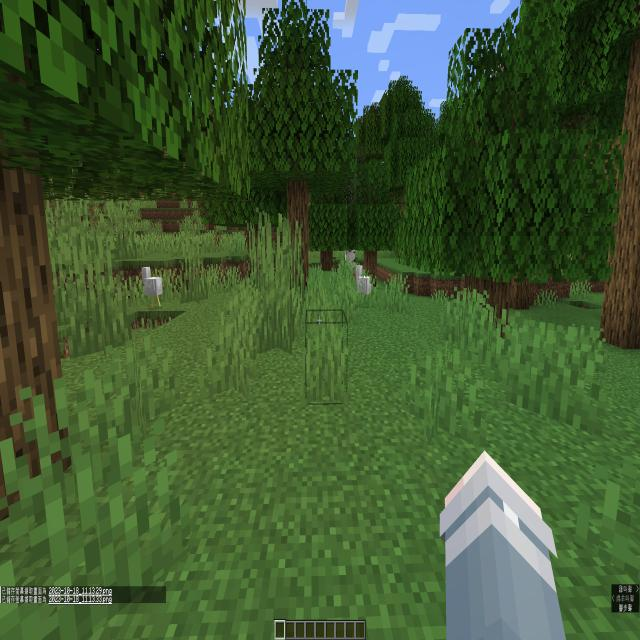chicken: (138, 260, 168, 314), (347, 260, 377, 304)
